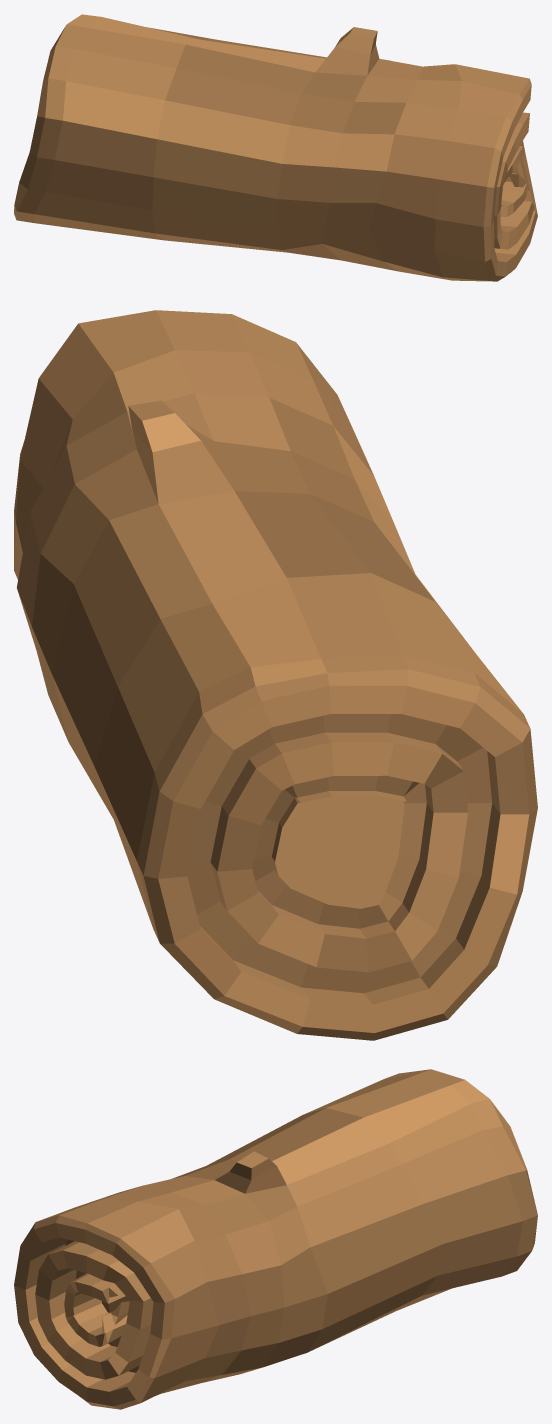
File: item log.fbx
The picture shows the model from 3 angles, top to bottom: view 1: azimuth 30°, elevation 25°; view 2: azimuth 150°, elevation 25°; view 3: azimuth 270°, elevation 25°; orthographic projection. The views are drawn at different scales.
Parts seen in each view (by area): view 1: Cube; view 2: Cube; view 3: Cube.
Part boxes in pixels (x1,y1,x2,y2): Cube: (14, 14, 537, 281); Cube: (14, 310, 537, 1040); Cube: (14, 1069, 537, 1409).
Size of the model in its own units: 402 by 206 by 447.
